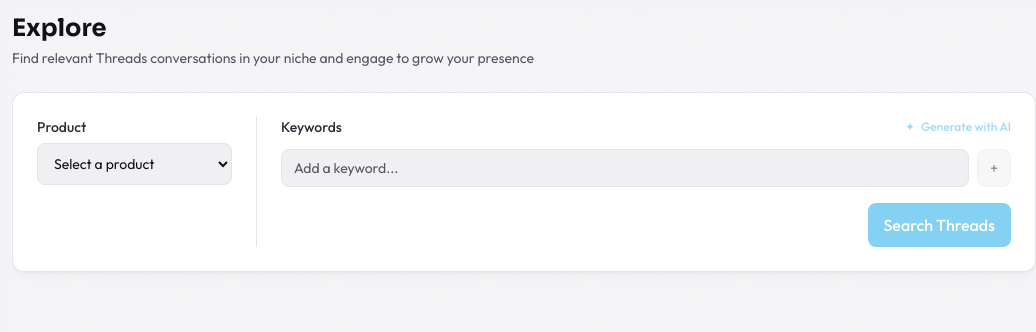
Test case: ExploreClient › after keywords generated › renders keyword chips after Generate Keywords succeeds
Select "My SaaS" in the dropdown labelled "Product" at (134, 164), box [37,143,232,185]
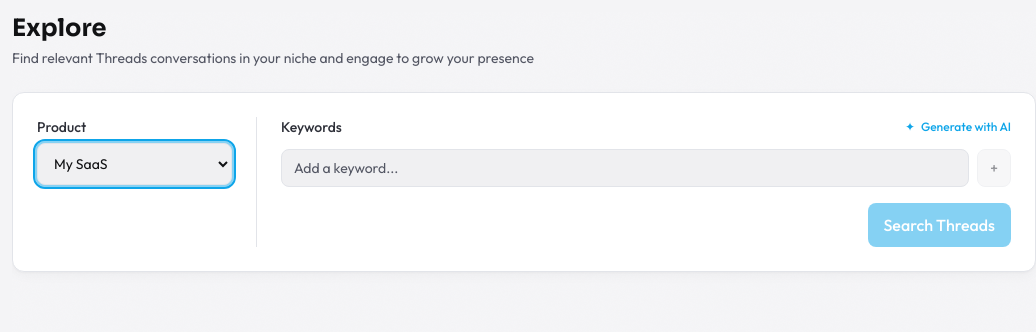
Click the button "✦ Generate with AI" at (958, 127), box [905,119,1011,135]
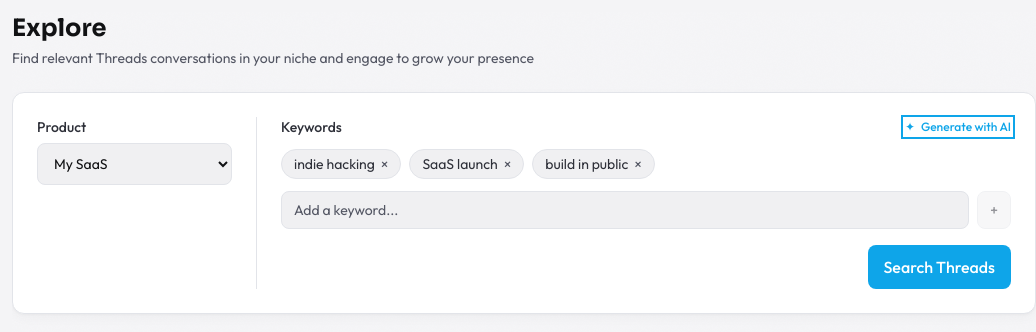
Result: the text "indie hacking" is shown at [294,155,375,173]
Result: the text "SaaS launch" is shown at [422,155,498,173]
Result: the text "build in public" is shown at [545,155,628,173]
